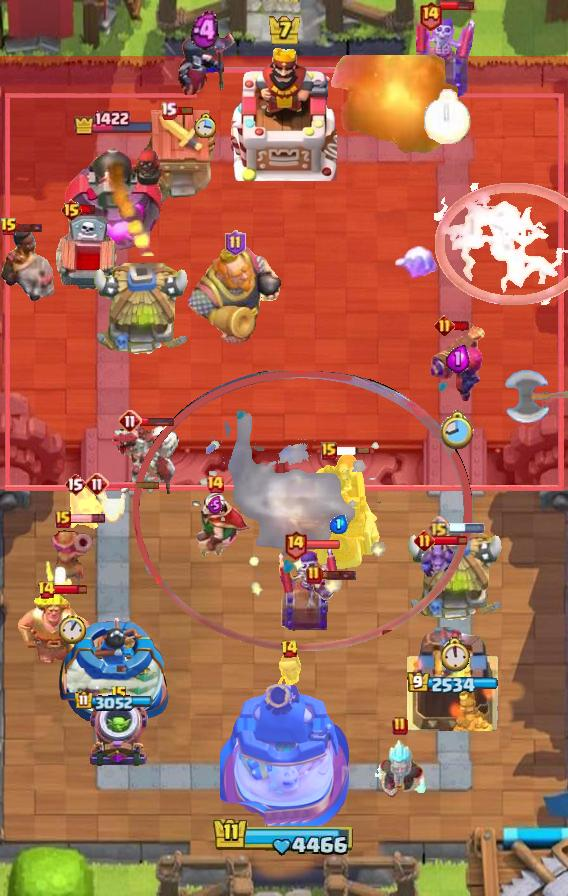barbarian-barrel: (311, 579, 341, 603)
barbarian-evolution: (434, 183, 568, 305)
bomb-tower: (51, 524, 93, 594)
clock: (212, 816, 356, 858)
electro-spirit: (191, 11, 219, 51), (446, 344, 470, 373), (330, 514, 348, 533), (208, 496, 222, 514)
elite-barbarian: (0, 226, 60, 302)
elixir: (424, 88, 471, 143), (441, 410, 475, 451), (442, 637, 470, 671), (59, 614, 86, 644), (194, 113, 217, 139)
elixir-golem-mid: (53, 214, 123, 300)
emote: (107, 480, 161, 489), (432, 534, 467, 547), (52, 583, 87, 596), (70, 512, 107, 524), (319, 569, 356, 581), (440, 0, 476, 12), (8, 221, 44, 233), (140, 415, 176, 427), (305, 539, 341, 550), (447, 523, 485, 533), (335, 446, 371, 456), (452, 320, 471, 332), (174, 105, 194, 116), (80, 204, 97, 216)
giant-skeleton: (181, 244, 289, 348)
goblin: (274, 653, 304, 695)
goblin-cage: (87, 699, 151, 769)
goblin-hut: (16, 591, 98, 677)
heal-spirit: (45, 560, 73, 600)
ice-spirit-evolution: (95, 487, 129, 525)
king-tower: (219, 678, 349, 826), (231, 45, 337, 181)
mega-minion: (428, 323, 488, 403)
mini-pekka: (110, 424, 182, 494)
mirror: (67, 480, 107, 532), (393, 246, 443, 284)
mortar: (371, 737, 429, 801)
prince: (91, 263, 193, 359), (405, 529, 507, 625)
queen-tower: (54, 614, 173, 730), (407, 627, 499, 731)
rascal-boy: (175, 26, 235, 98)
royal-delivery: (418, 537, 458, 581)
royal-ghost: (132, 371, 471, 651)
royal-giant: (502, 369, 568, 425)
selected: (407, 672, 499, 696), (73, 110, 155, 136), (75, 691, 153, 711)
skeleton-king: (176, 492, 254, 560)
skeleton-king-bar: (278, 542, 340, 634), (416, 8, 478, 98)
sparky: (135, 109, 221, 207)
text: (417, 0, 442, 31), (284, 529, 309, 560), (118, 409, 142, 433), (85, 472, 109, 496), (225, 230, 247, 256), (61, 198, 84, 222), (427, 517, 450, 540), (64, 472, 86, 496), (433, 315, 454, 336), (414, 530, 435, 551), (205, 474, 225, 494), (36, 580, 56, 600), (280, 639, 299, 659), (0, 217, 18, 237), (110, 685, 128, 705), (306, 565, 322, 585), (392, 716, 408, 736), (160, 101, 177, 119), (321, 442, 337, 460), (55, 510, 71, 528)
tower-bar: (63, 138, 164, 256)
valkyrie: (317, 55, 473, 163)
zappy: (298, 452, 383, 574)
